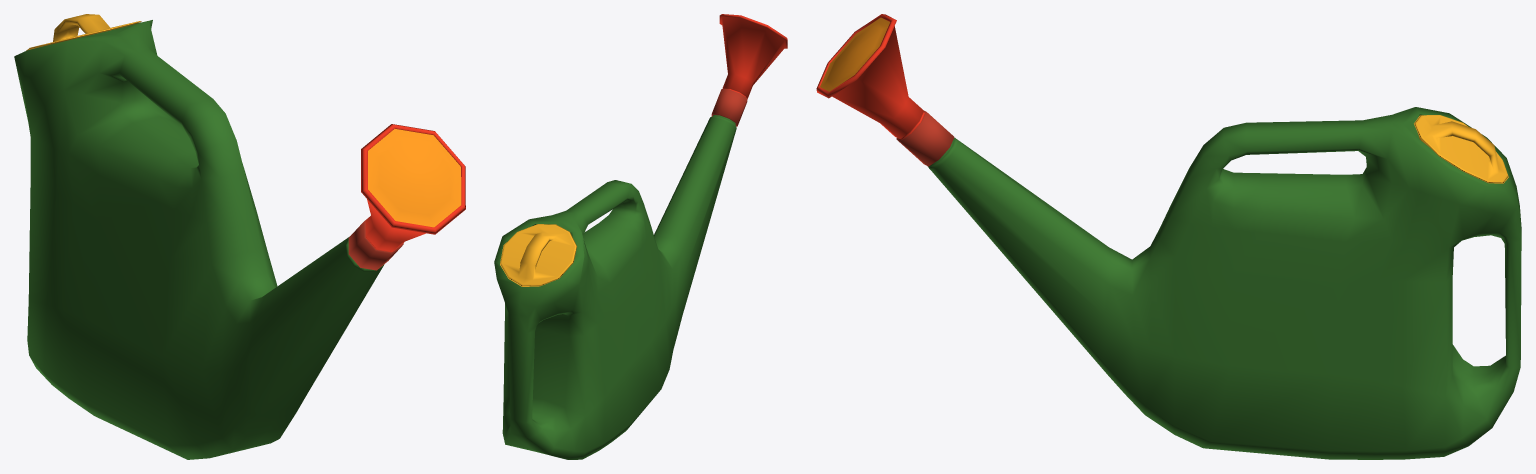
File: watercan.gltf
3 renders of one model, left to right at view 1: azimuth 30°, elevation 25°; view 2: azimuth 150°, elevation 25°; view 3: azimuth 270°, elevation 25°, orthographic. The views are drawn at different scales.
Visible parts, largest first — view 1: WateringCan; view 2: WateringCan; view 3: WateringCan.
Boxes of the visible parts, x1,y1,x2,y2 form: WateringCan: [14, 14, 465, 459]; WateringCan: [494, 14, 787, 459]; WateringCan: [816, 14, 1521, 459].
Size of the model in its own units: 0.1016 by 0.3094 by 0.4798.
